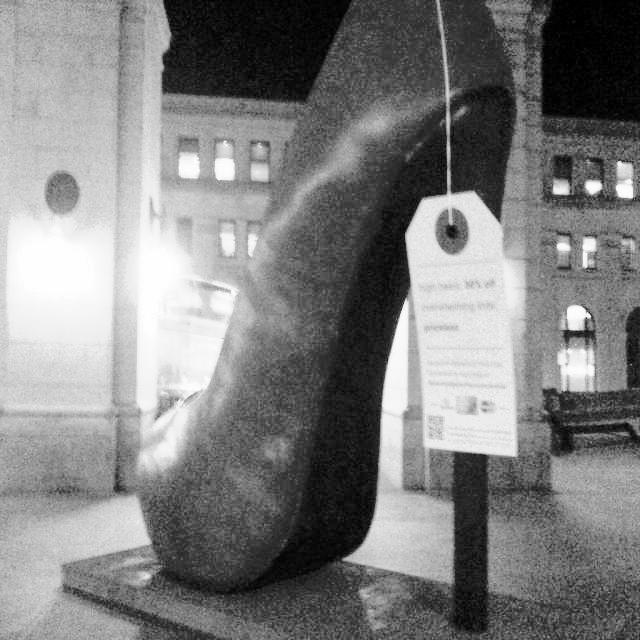qr_code: (429, 416, 443, 439)
